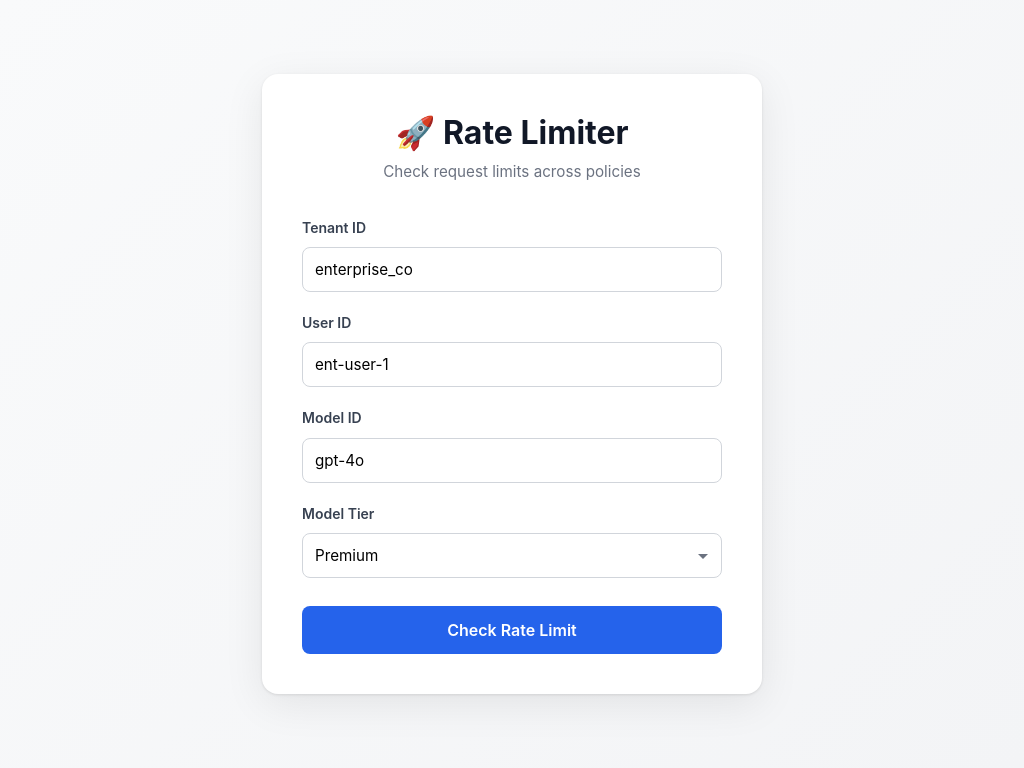
Scenario: Rate Limiter App › Allowed Response Display › should display success message when allowed
Click the button "Check Rate Limit" at (512, 630), box [302,606,722,654]
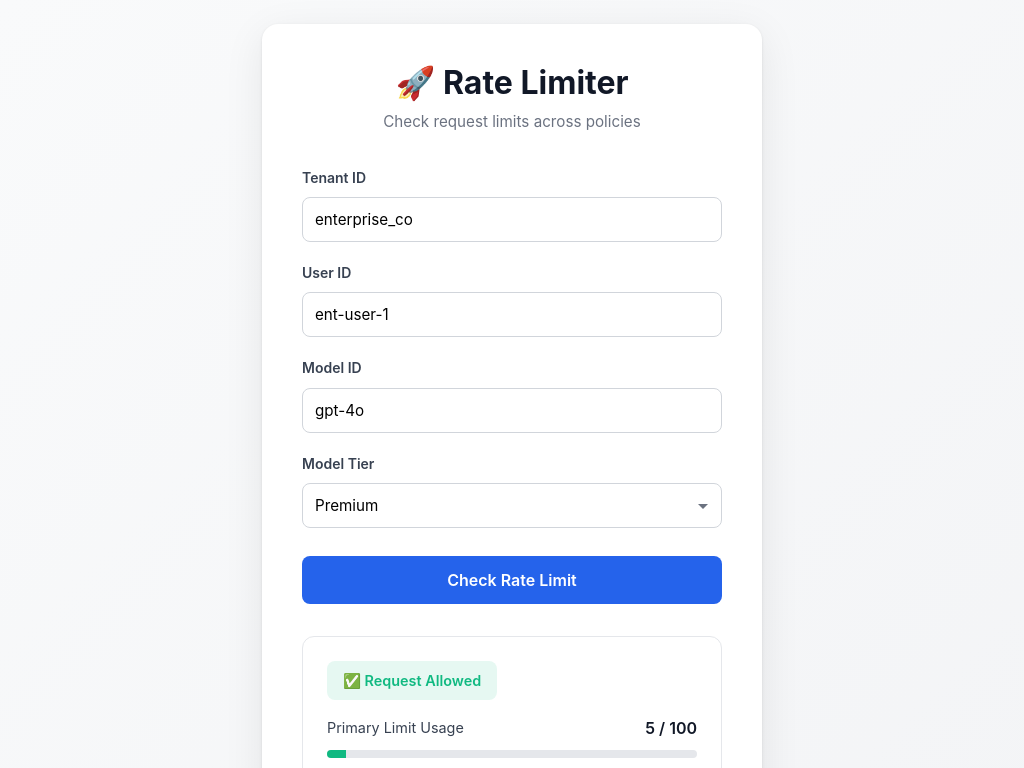
Check: the text "✅ Request Allowed" is shown, box [327,661,497,700]
